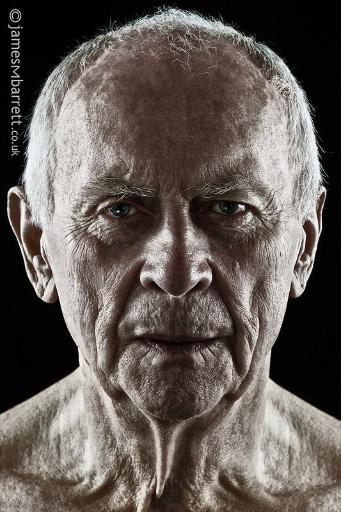left_eye: (197, 197, 261, 224)
left_lip_corner: (211, 327, 234, 353)
right_eye: (94, 200, 151, 225)
right_lip_corner: (127, 332, 149, 346)
